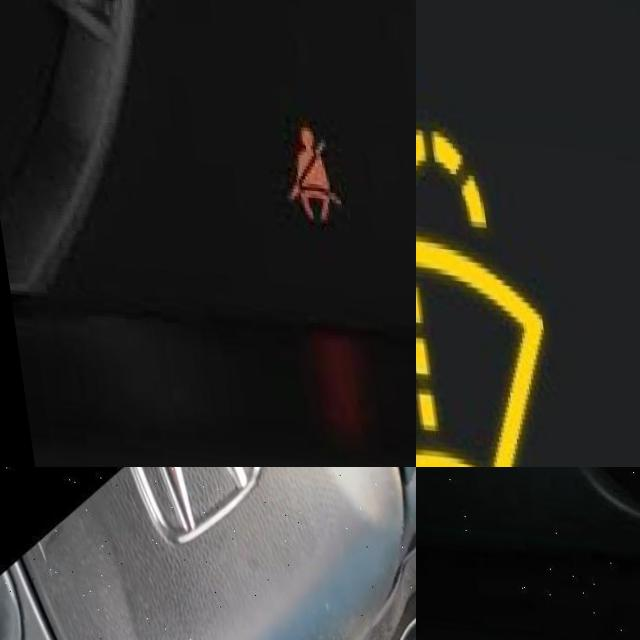Seat Belt: (275, 120, 331, 217)
Washer Fluid: (416, 112, 557, 467)
